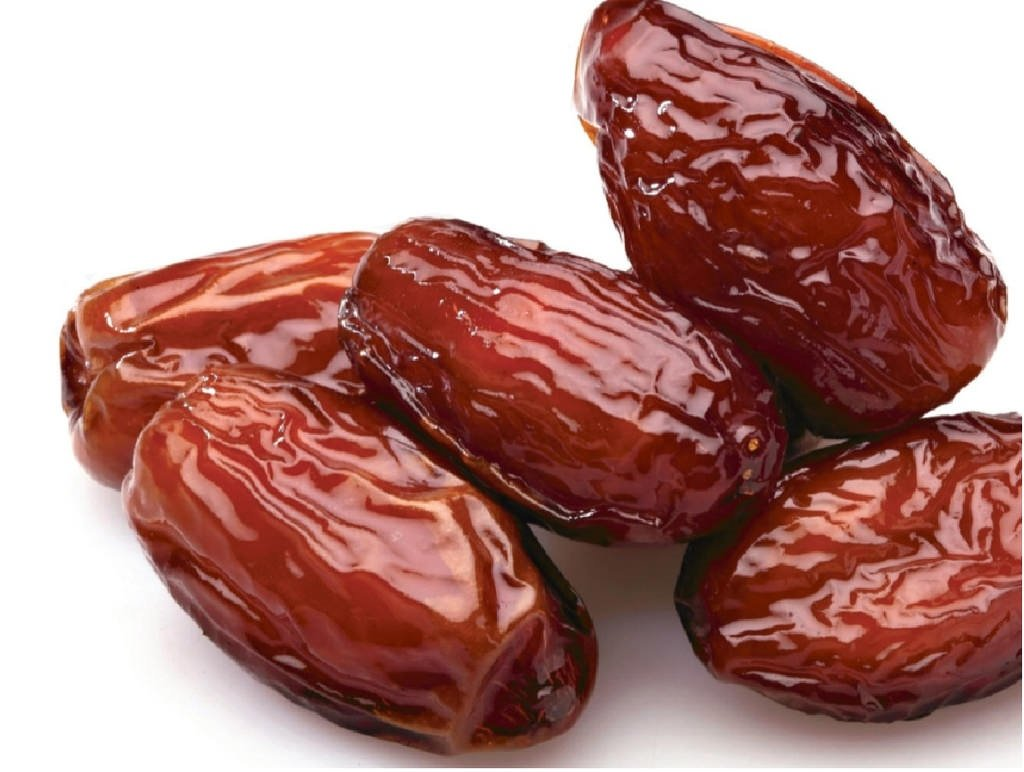hurmaa: (120, 356, 611, 764), (334, 203, 801, 550)
